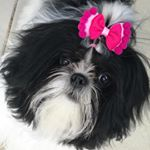puppy: (1, 15, 147, 143)
